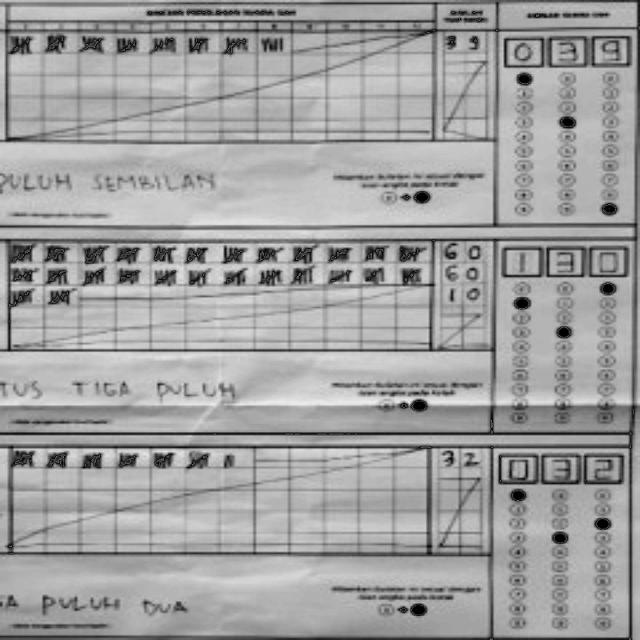Suara: (499, 240, 630, 279), (496, 449, 624, 486), (500, 34, 630, 70)
